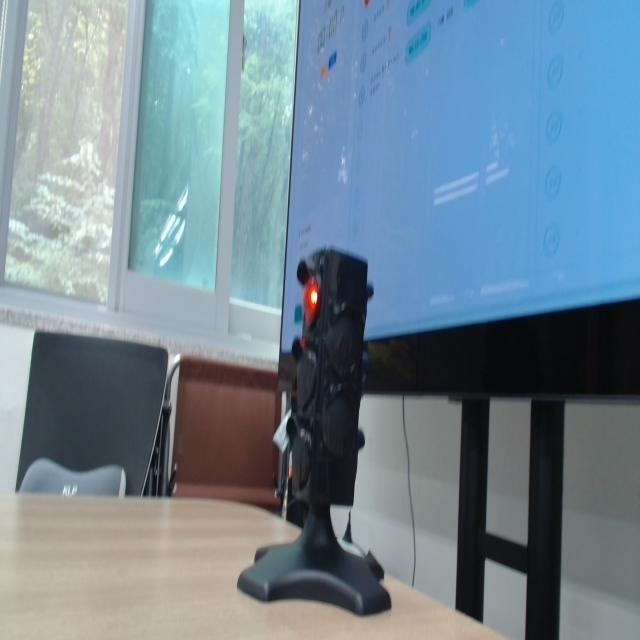red_light: (303, 277, 320, 327)
